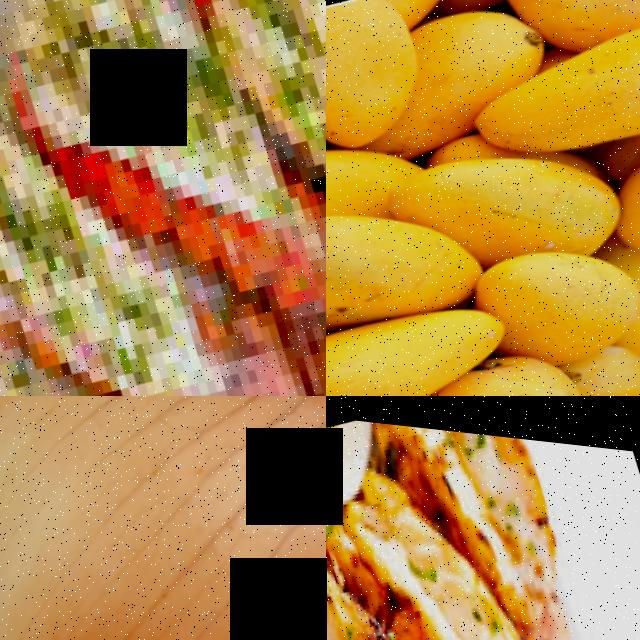lobster tails: (167, 0, 326, 348), (435, 422, 636, 640), (394, 553, 640, 640), (326, 564, 547, 640)
mango: (457, 0, 640, 190), (326, 161, 472, 371), (326, 262, 530, 396), (326, 0, 445, 175), (444, 323, 616, 396)
onion: (0, 396, 326, 640)
